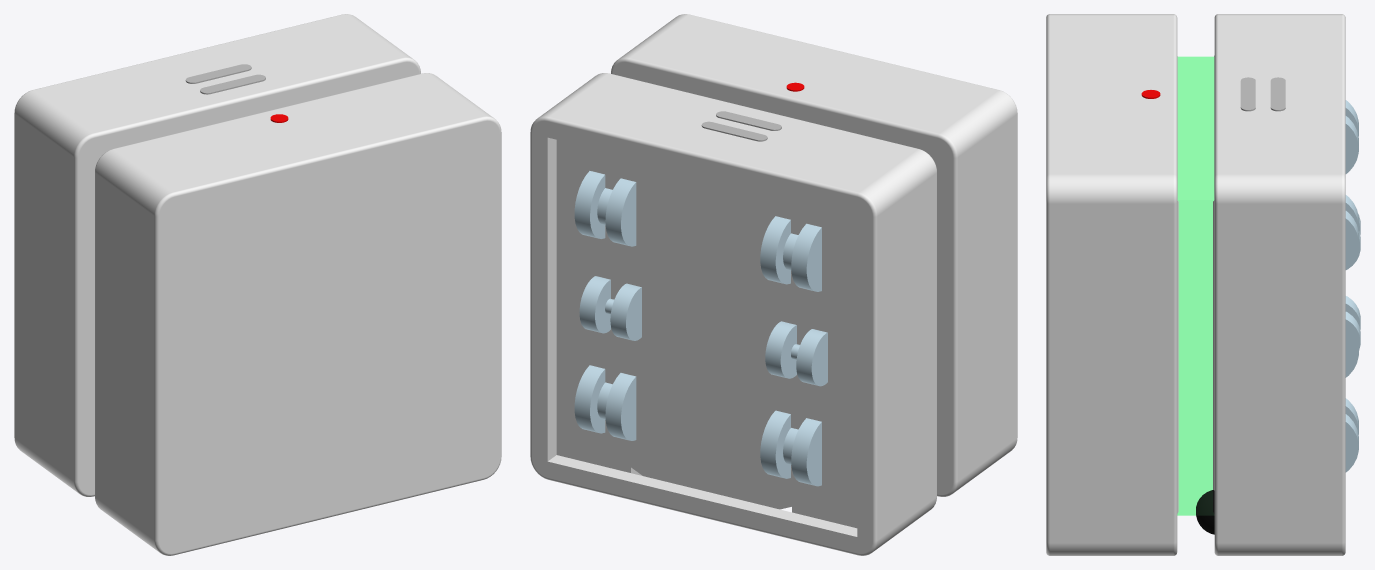
File: robot.glb
The picture shows the model from 3 angles, left to right: view 1: azimuth 30°, elevation 25°; view 2: azimuth 150°, elevation 25°; view 3: azimuth 270°, elevation 25°; orthographic projection. The views are drawn at different scales.
Parts seen in each view (by area): view 1: Body, Back gray bars; view 2: Body, Castor wheel, Castor wheel.003, Castor wheel.001, Castor wheel.002, Driver wheel.001, Driver wheel, Back gray bars, Front panel; view 3: Body, Cube, Back gray bars, Driver wheel, Castor wheel, Castor wheel.001, Castor wheel.003, LiDAR 1.
Part boxes in pixels (<box>): Body: <box>14,14,501,555</box>; Back gray bars: <box>185,64,265,94</box>; Body: <box>530,14,1017,555</box>; Castor wheel: <box>574,365,636,440</box>; Castor wheel.003: <box>574,171,636,246</box>; Castor wheel.001: <box>760,216,821,291</box>; Castor wheel.002: <box>760,410,821,486</box>; Driver wheel.001: <box>765,321,827,386</box>; Driver wheel: <box>579,276,641,340</box>; Back gray bars: <box>701,111,781,141</box>; Front panel: <box>631,466,791,509</box>; Body: <box>1046,14,1345,555</box>; Cube: <box>1177,56,1214,515</box>; Back gray bars: <box>1240,77,1285,111</box>; Driver wheel: <box>1345,296,1360,364</box>; Castor wheel: <box>1345,398,1358,472</box>; Castor wheel.001: <box>1345,100,1358,173</box>; Castor wheel.003: <box>1345,195,1358,268</box>; LiDAR 1: <box>1196,490,1214,534</box>.
Bounding box in the file's own units: 0.56 × 0.5625 × 0.4202.
